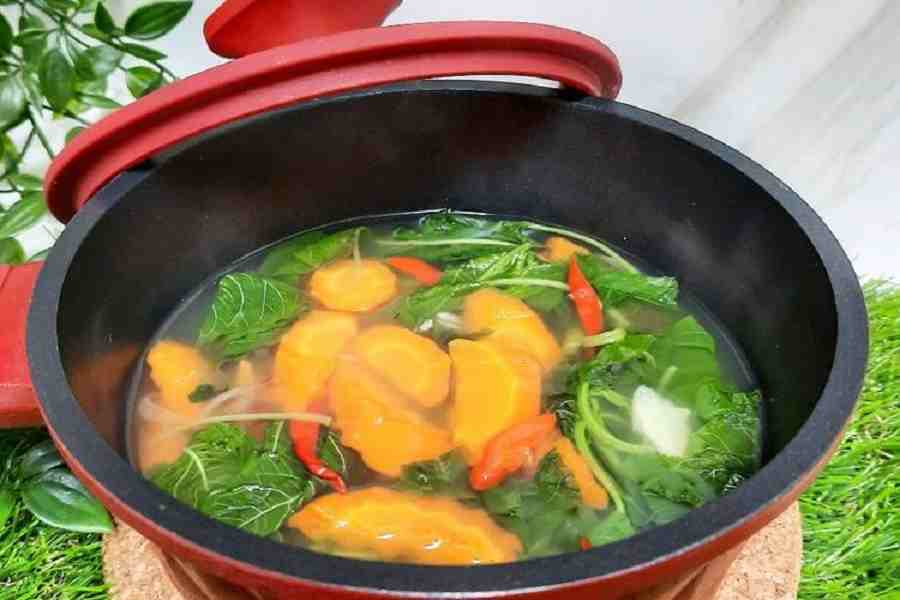Sayur Bayam: (175, 153, 730, 559)
